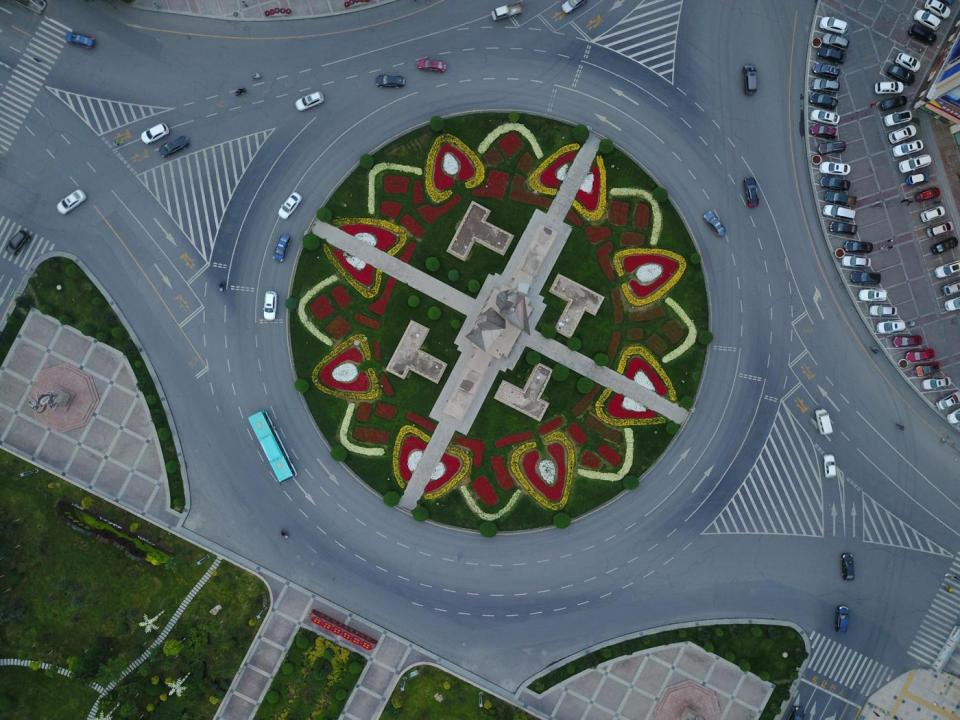bus: (248, 411, 299, 481)
car: (56, 189, 86, 215), (278, 192, 302, 219), (140, 123, 170, 144), (159, 136, 189, 157), (6, 230, 30, 256), (295, 91, 324, 112), (703, 211, 726, 237), (898, 154, 931, 172), (825, 190, 856, 209), (887, 64, 915, 85), (910, 25, 937, 46), (913, 9, 940, 29), (820, 16, 848, 35), (892, 139, 923, 156), (895, 52, 920, 73), (743, 177, 760, 207), (930, 237, 958, 255), (889, 124, 915, 143), (924, 0, 950, 19), (934, 259, 960, 278), (883, 109, 912, 126), (273, 234, 291, 261), (818, 176, 850, 191), (821, 33, 849, 50), (935, 392, 960, 411), (65, 33, 94, 49), (262, 291, 278, 320), (418, 57, 447, 73), (810, 110, 839, 126), (925, 221, 954, 237), (820, 161, 850, 176), (818, 46, 846, 62), (812, 78, 840, 94), (743, 64, 757, 95), (813, 62, 840, 78), (920, 206, 945, 223), (809, 124, 837, 139), (850, 271, 880, 285), (905, 349, 935, 363), (921, 376, 951, 390), (859, 288, 888, 302), (810, 94, 837, 109), (880, 95, 907, 110), (560, 0, 588, 14), (835, 606, 849, 634), (818, 141, 846, 155), (869, 304, 897, 318), (894, 334, 922, 348), (841, 256, 871, 269), (914, 362, 941, 376), (874, 81, 903, 94), (376, 75, 404, 88), (829, 222, 857, 235), (877, 320, 905, 333), (842, 553, 854, 583), (915, 187, 939, 202), (843, 241, 873, 252), (824, 454, 836, 478), (786, 705, 805, 720), (905, 173, 929, 184), (942, 281, 960, 295), (943, 297, 960, 310), (947, 408, 960, 423)
truck: (491, 1, 525, 20)
van: (824, 206, 856, 222), (814, 408, 832, 435)
